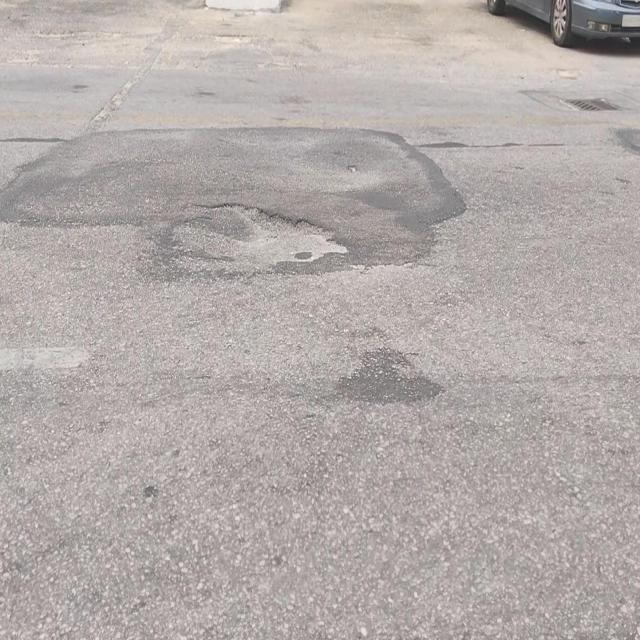Potholes: (167, 199, 352, 282)
